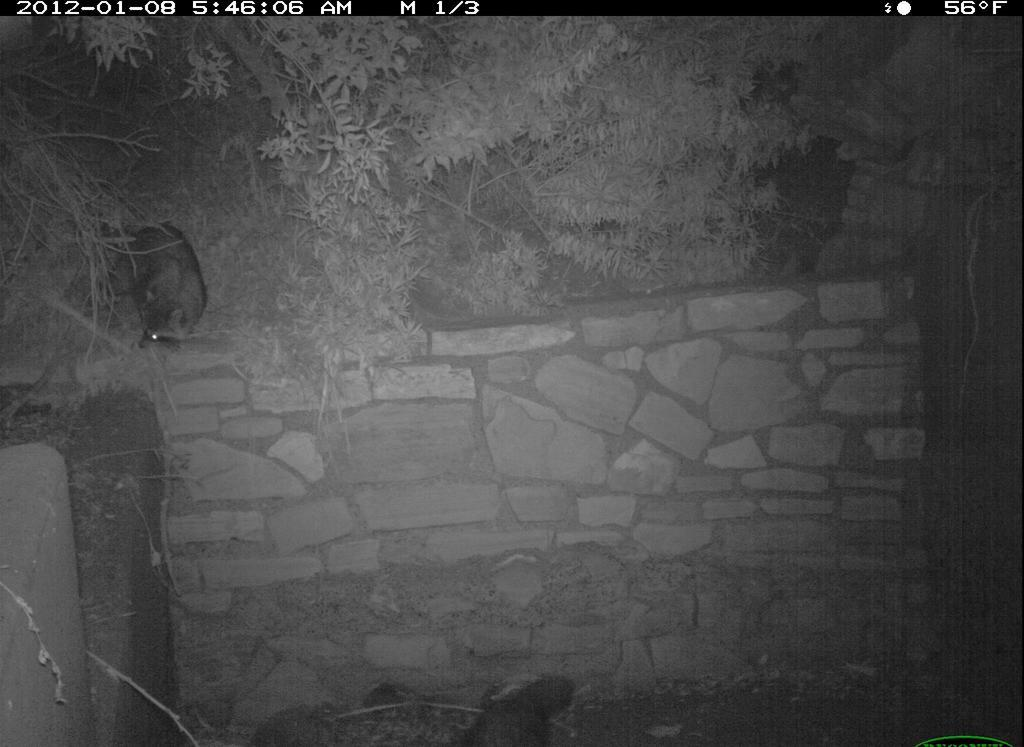raccoon: (100, 218, 214, 365)
